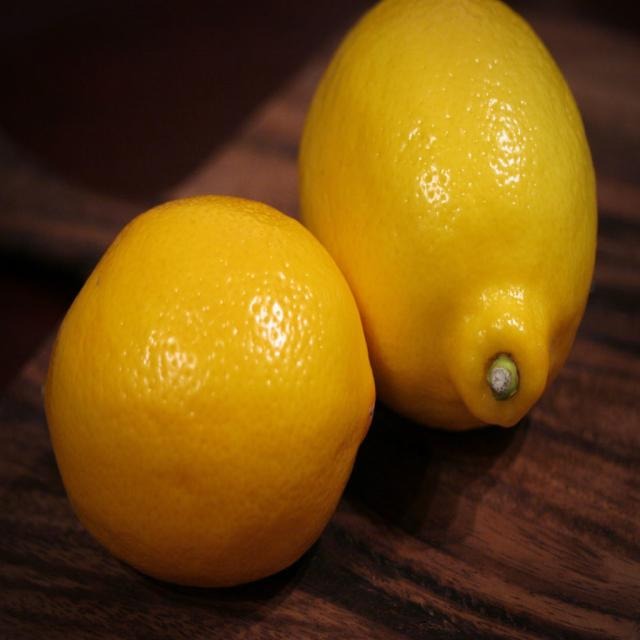Lemon: (42, 200, 377, 587), (298, 2, 596, 427)
